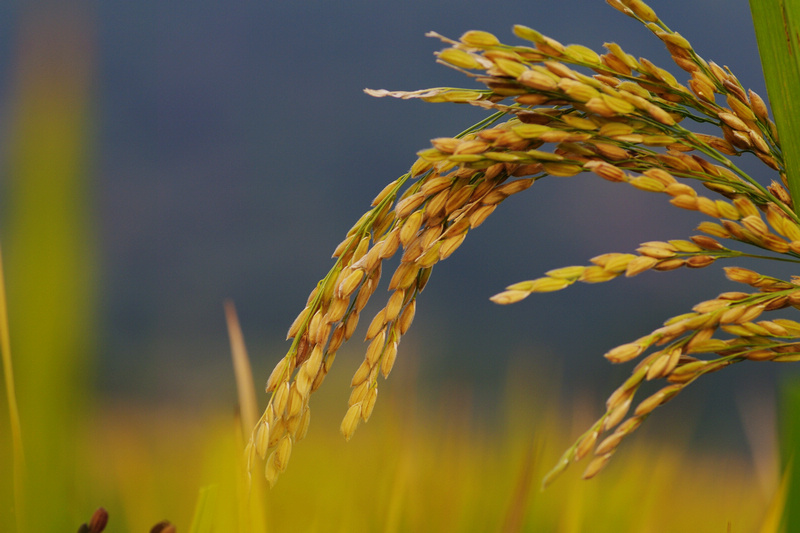rice: (244, 28, 796, 484)
